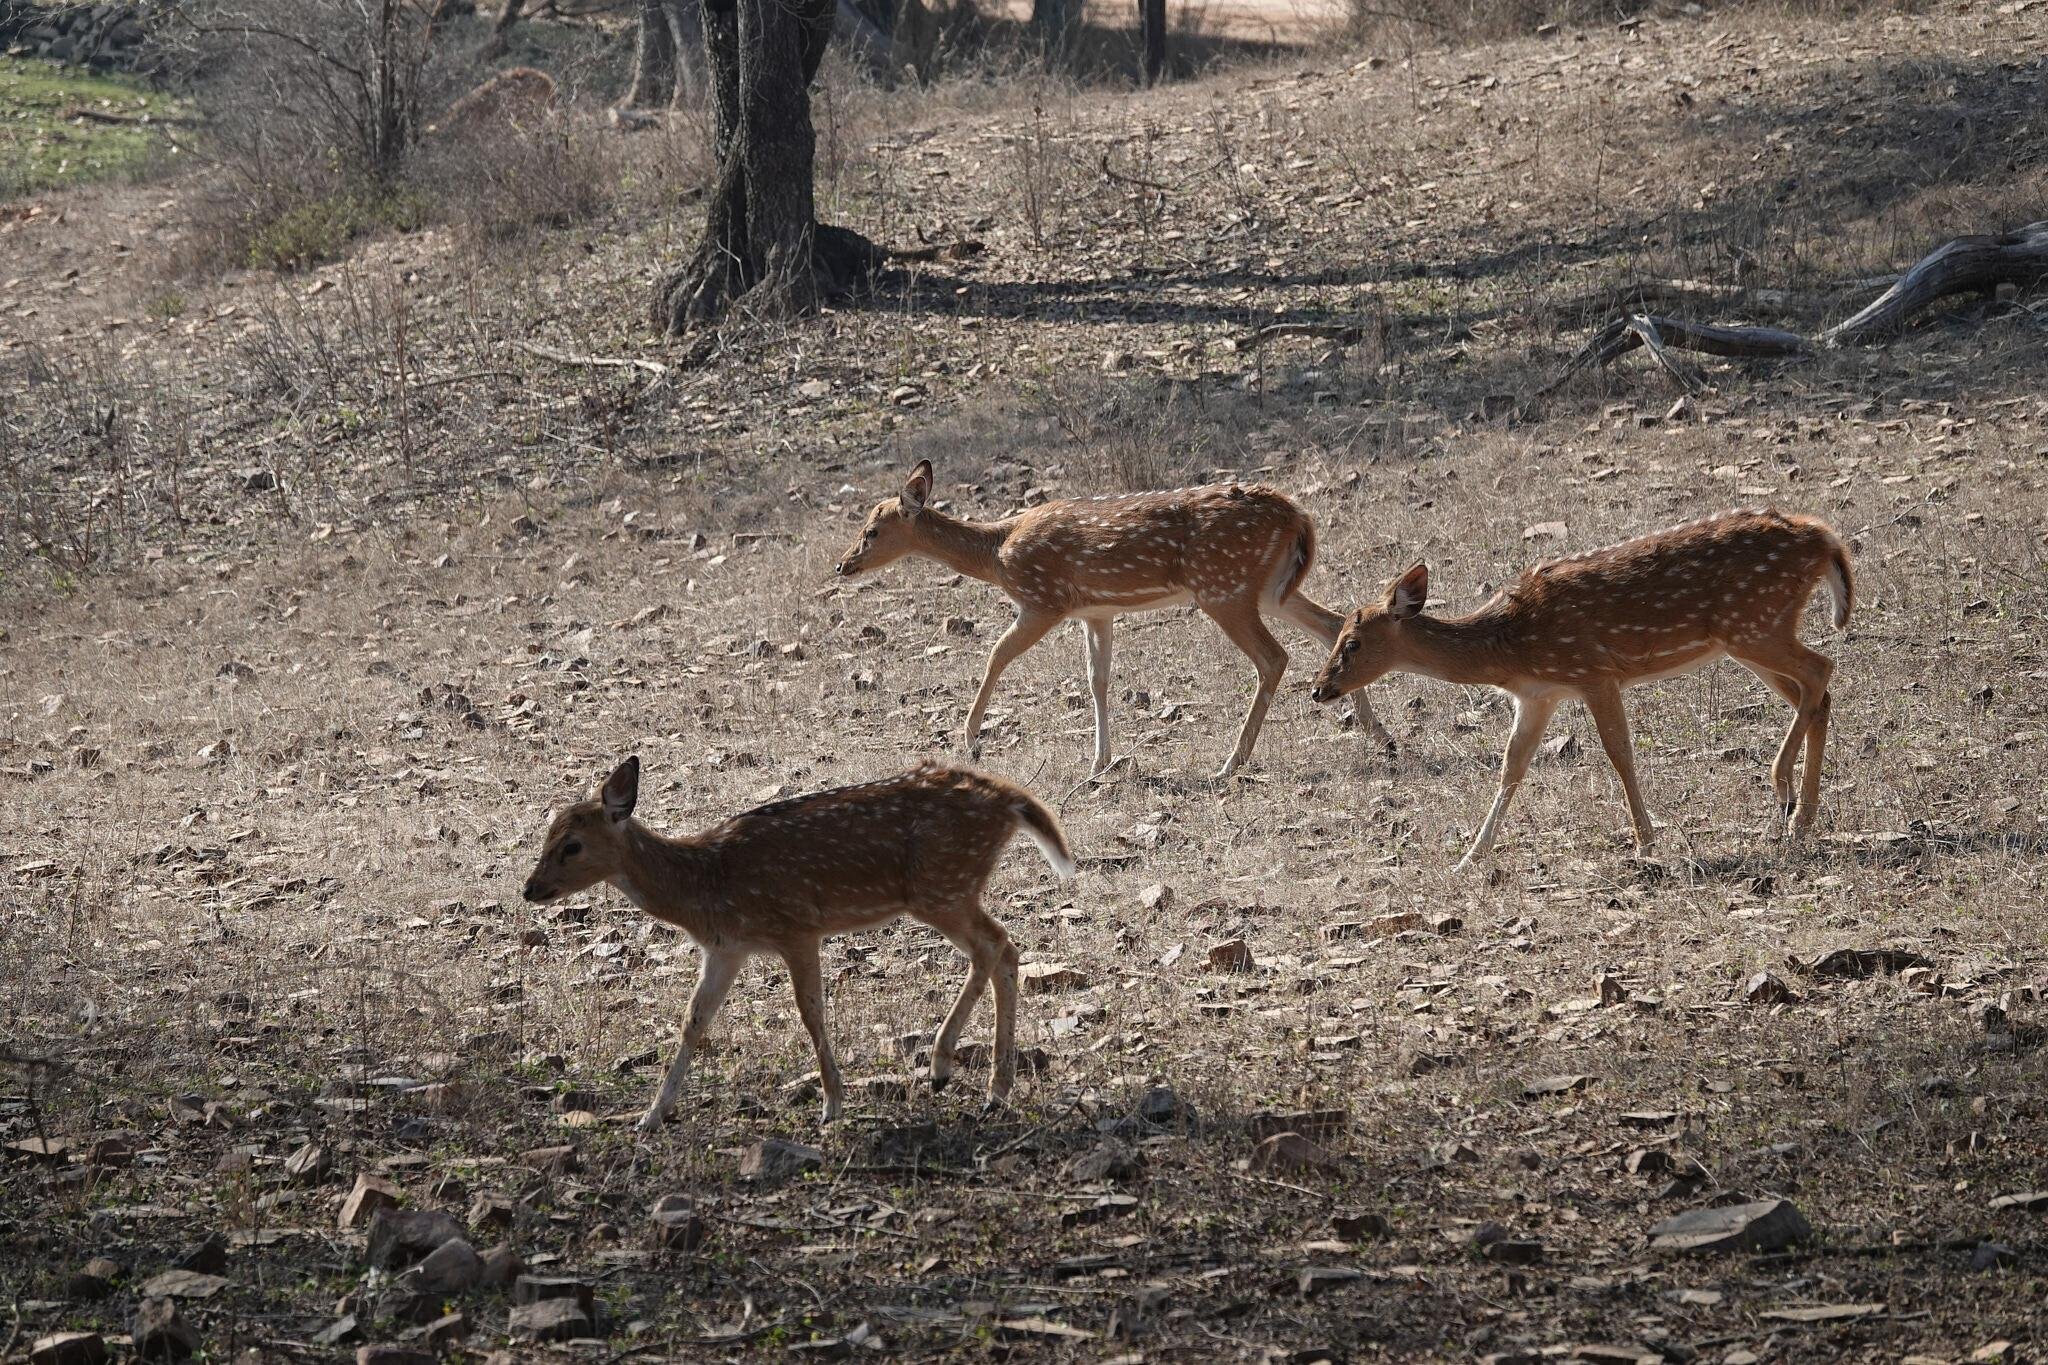Deer: (522, 756, 1073, 1130), (1313, 509, 1855, 865), (836, 459, 1341, 775)
